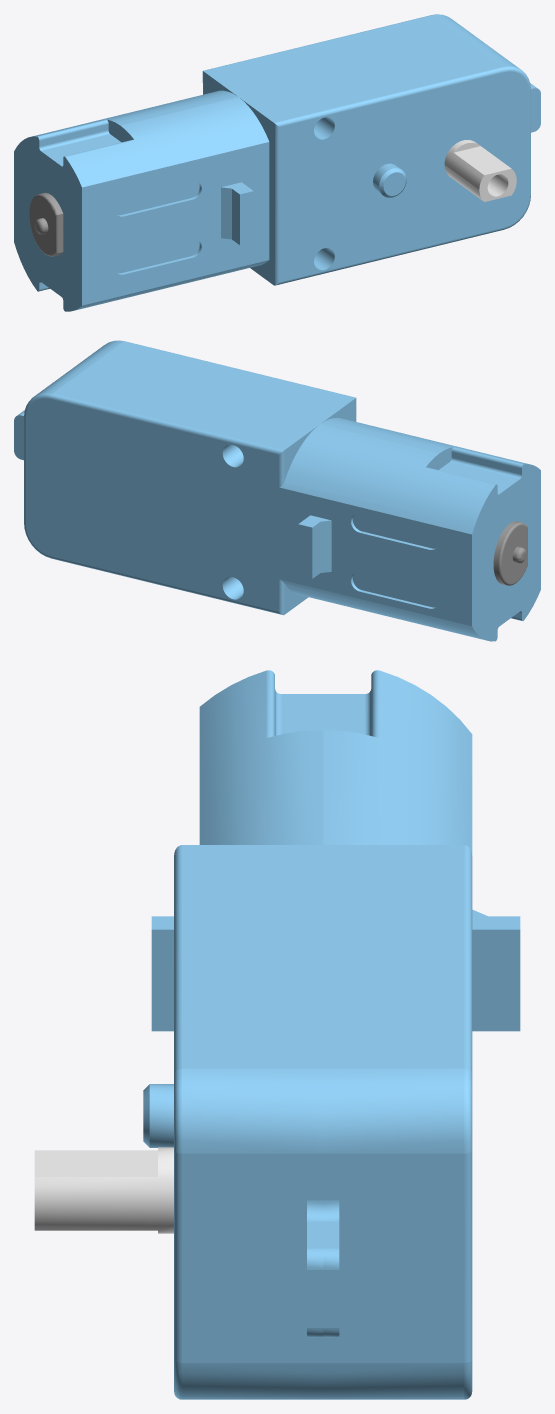
File: 3802 TT Motor Metal Gear.glb
The picture shows the model from 3 angles, top to bottom: view 1: azimuth 30°, elevation 25°; view 2: azimuth 150°, elevation 25°; view 3: azimuth 270°, elevation 25°; orthographic projection. The views are drawn at different scales.
Visible parts, largest first — view 1: Motor Metal Gear v3; view 2: Motor Metal Gear v3; view 3: Motor Metal Gear v3.
Part boxes in pixels (left/top/right/bottom): Motor Metal Gear v3: left=14, top=14, right=540, bottom=311; Motor Metal Gear v3: left=14, top=340, right=540, bottom=641; Motor Metal Gear v3: left=34, top=670, right=520, bottom=1399.
Size of the model in its own units: 72 by 22.4 by 30.3.
